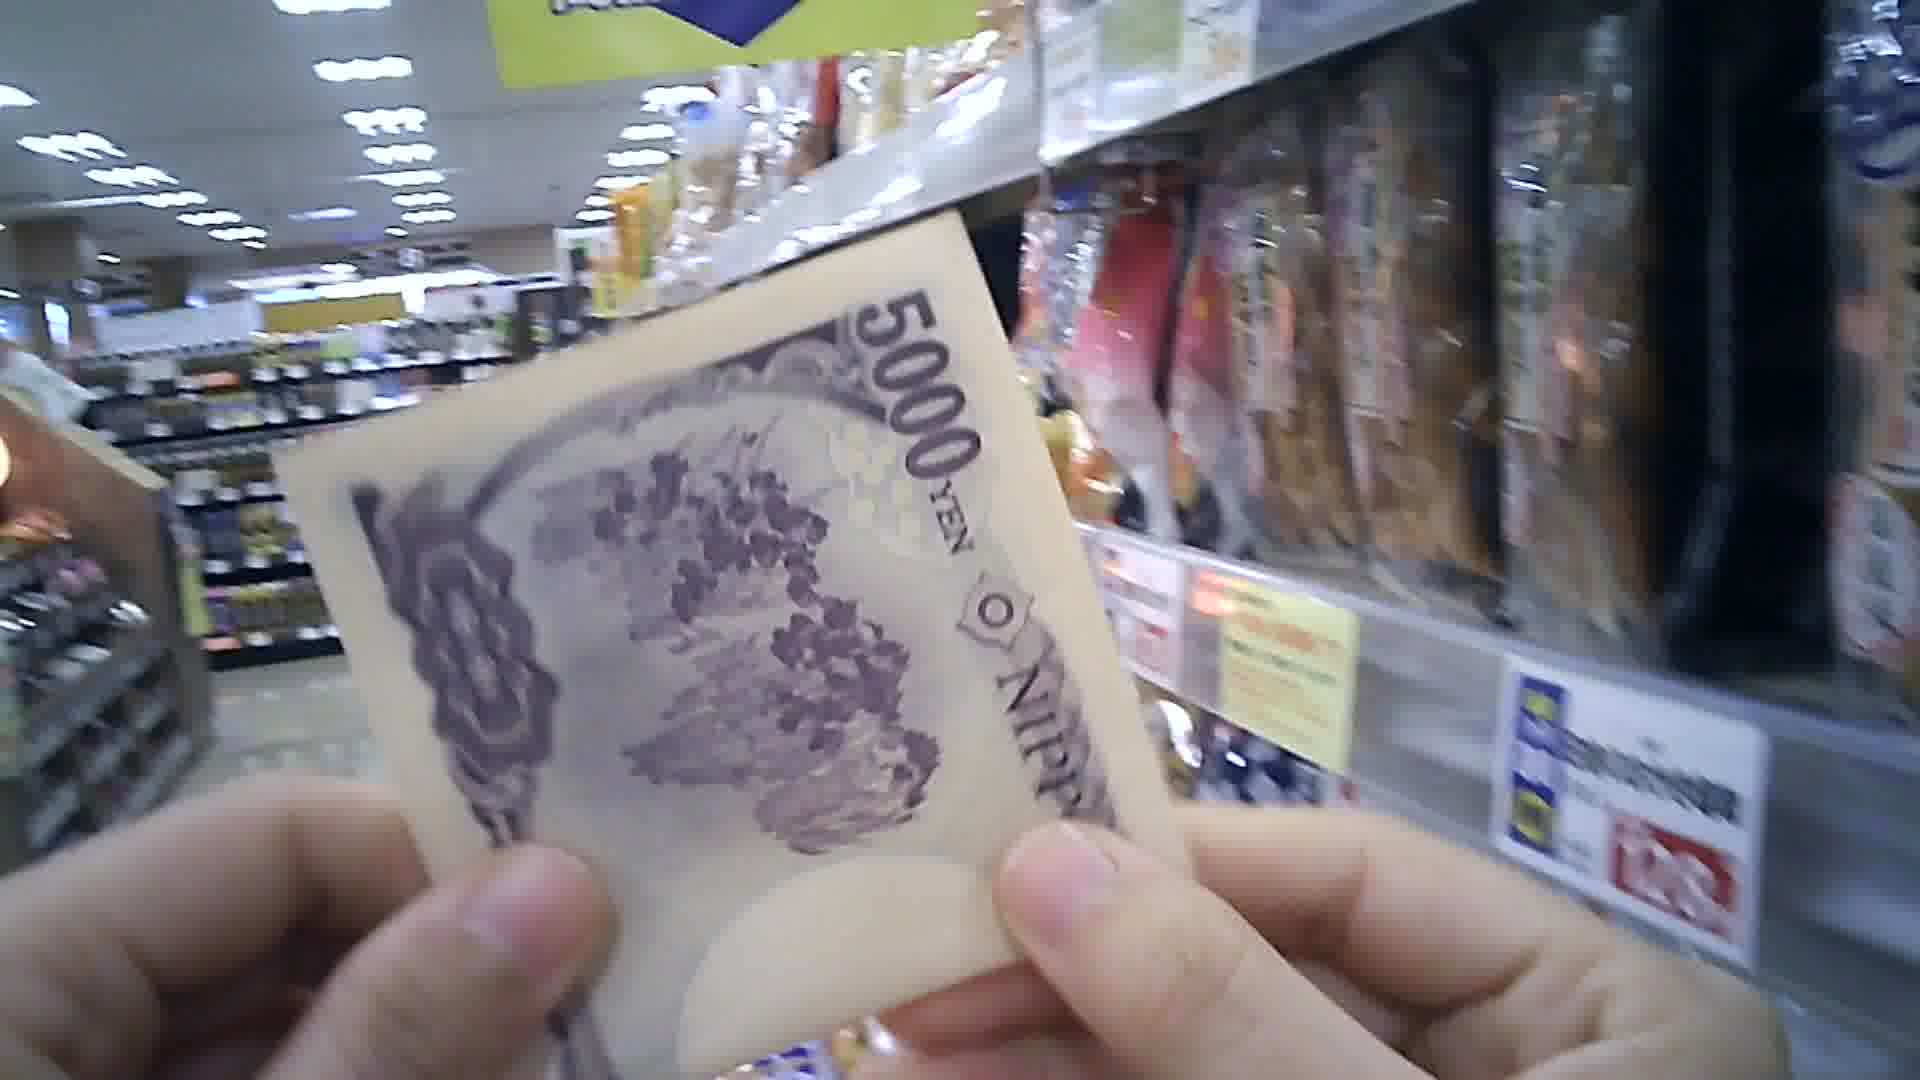5,000 Yen: (261, 223, 1212, 1065)
